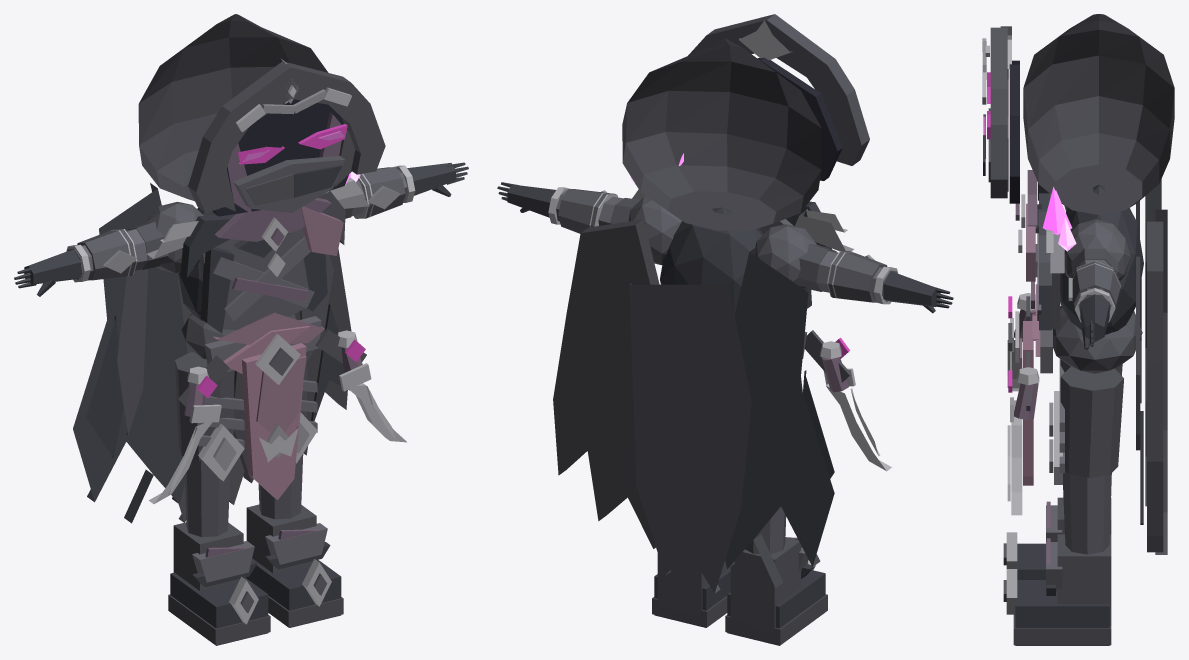
File: assassin.glb
3 renders of one model, left to right at view 1: azimuth 30°, elevation 25°; view 2: azimuth 150°, elevation 25°; view 3: azimuth 270°, elevation 25°, orthographic. The views are drawn at different scales.
Parts seen in each view (by area): view 1: Hood_Outer_3D, Cloak_Left_Main, HoodFaceDark, FrontLongTabard, CloakFacetLeft, ChestPlate, Shin_L, Cloak_Right_Main, BootToe_L, CloakRagL, BootToe_R, FaceMask (+48 smaller); view 2: Cloak_Back_Center, Hood_Outer_3D, Cloak_Right_Main, Cloak_Left_Main, TorsoCore, BootShaft_L, BootShaft_R, Shoulder_L, ForearmGuard_L, HoodFaceDark, HoodBrim_3, Shoulder_R (+17 smaller); view 3: Hood_Outer_3D, Thigh_R, Cloak_Right_Main, Shin_R, BootToe_R, TorsoCore, BeltCore, BootShaft_R, Shoulder_R, Cloak_Back_Center, BootSole_R, HoodFaceDark (+33 smaller).
Boxes of the visible parts, x1=… form: Hood_Outer_3D: x1=138, y1=14, x2=328, y2=201; Cloak_Left_Main: x1=73, y1=183, x2=187, y2=523; HoodFaceDark: x1=212, y1=99, x2=348, y2=216; FrontLongTabard: x1=242, y1=343, x2=306, y2=499; CloakFacetLeft: x1=117, y1=227, x2=147, y2=435; ChestPlate: x1=199, y1=228, x2=308, y2=330; Shin_L: x1=184, y1=459, x2=230, y2=537; Cloak_Right_Main: x1=233, y1=249, x2=351, y2=483; BootToe_L: x1=170, y1=572, x2=268, y2=645; CloakRagL: x1=86, y1=316, x2=123, y2=457; BootToe_R: x1=245, y1=558, x2=341, y2=627; FaceMask: x1=233, y1=155, x2=345, y2=212; Cloak_Back_Center: x1=629, y1=283, x2=751, y2=593; Hood_Outer_3D: x1=622, y1=38, x2=821, y2=230; Cloak_Right_Main: x1=553, y1=219, x2=659, y2=548; Cloak_Left_Main: x1=725, y1=247, x2=834, y2=587; TorsoCore: x1=660, y1=207, x2=763, y2=314; BootShaft_L: x1=730, y1=537, x2=800, y2=634; BootShaft_R: x1=657, y1=551, x2=727, y2=616; Shoulder_L: x1=755, y1=224, x2=816, y2=290; ForearmGuard_L: x1=828, y1=251, x2=887, y2=302; HoodFaceDark: x1=757, y1=57, x2=842, y2=180; HoodBrim_3: x1=766, y1=14, x2=835, y2=77; Shoulder_R: x1=628, y1=196, x2=681, y2=265; Hood_Outer_3D: x1=1023, y1=14, x2=1174, y2=214; Thigh_R: x1=1060, y1=367, x2=1123, y2=477; Cloak_Right_Main: x1=1147, y1=221, x2=1163, y2=552; Shin_R: x1=1063, y1=470, x2=1111, y2=554; BootToe_R: x1=1015, y1=580, x2=1109, y2=645; TorsoCore: x1=1060, y1=184, x2=1143, y2=334; BeltCore: x1=1053, y1=305, x2=1142, y2=373; BootShaft_R: x1=1057, y1=534, x2=1111, y2=626; Shoulder_R: x1=1064, y1=219, x2=1130, y2=280; Cloak_Back_Center: x1=1155, y1=209, x2=1167, y2=554; BootSole_R: x1=1013, y1=614, x2=1111, y2=645; HoodFaceDark: x1=1009, y1=60, x2=1019, y2=203.
Bounding box in the file's own units: 1.52 × 1.87 × 0.5449.
